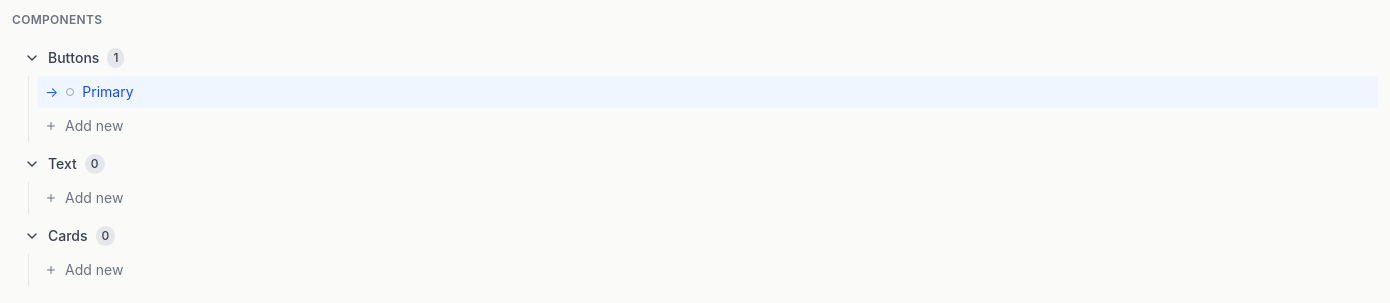
Test: ComponentTree › collapses component when clicked
Step 1. Click the button "Buttons 1" → (74,58), box [12, 40, 1378, 76]
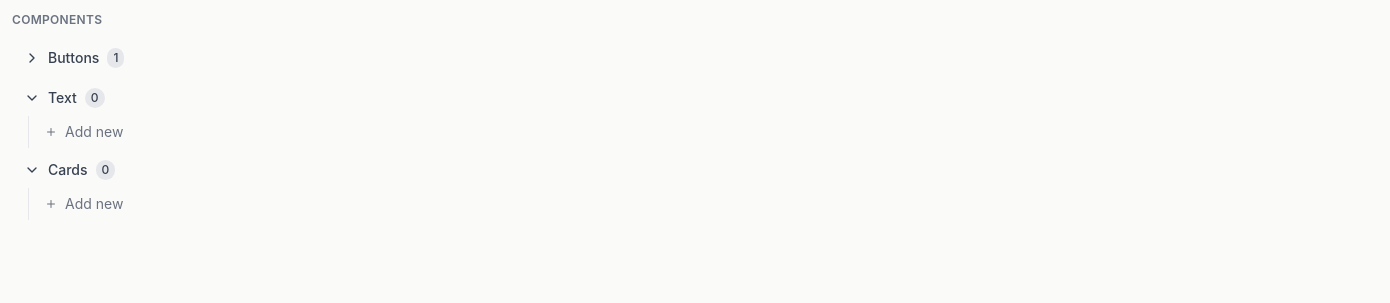
Expected: the button "Primary" is gone
